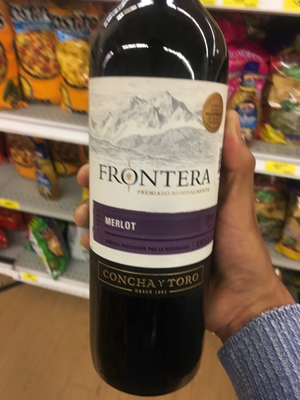frontera merlot: (86, 1, 227, 382)
